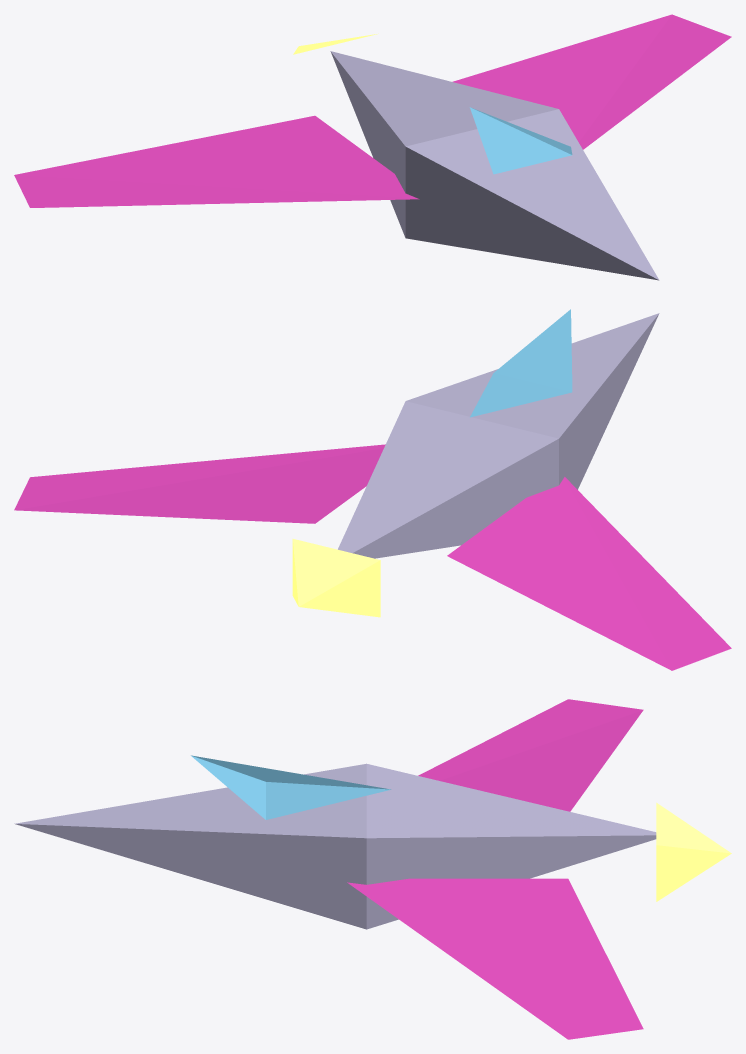
Rendered from example-ship.glb.
3 renders of one model, top to bottom at view 1: azimuth 30°, elevation 25°; view 2: azimuth 150°, elevation 25°; view 3: azimuth 270°, elevation 25°, orthographic.
Parts seen in each view (by area): view 1: ExampleShip; view 2: ExampleShip; view 3: ExampleShip.
Part boxes in pixels (x1=…): ExampleShip: x1=14, y1=14, x2=731, y2=280; ExampleShip: x1=14, y1=309, x2=731, y2=670; ExampleShip: x1=14, y1=699, x2=731, y2=1039.
Bounding box in the file's own units: 3.2 × 0.6 × 2.85.
